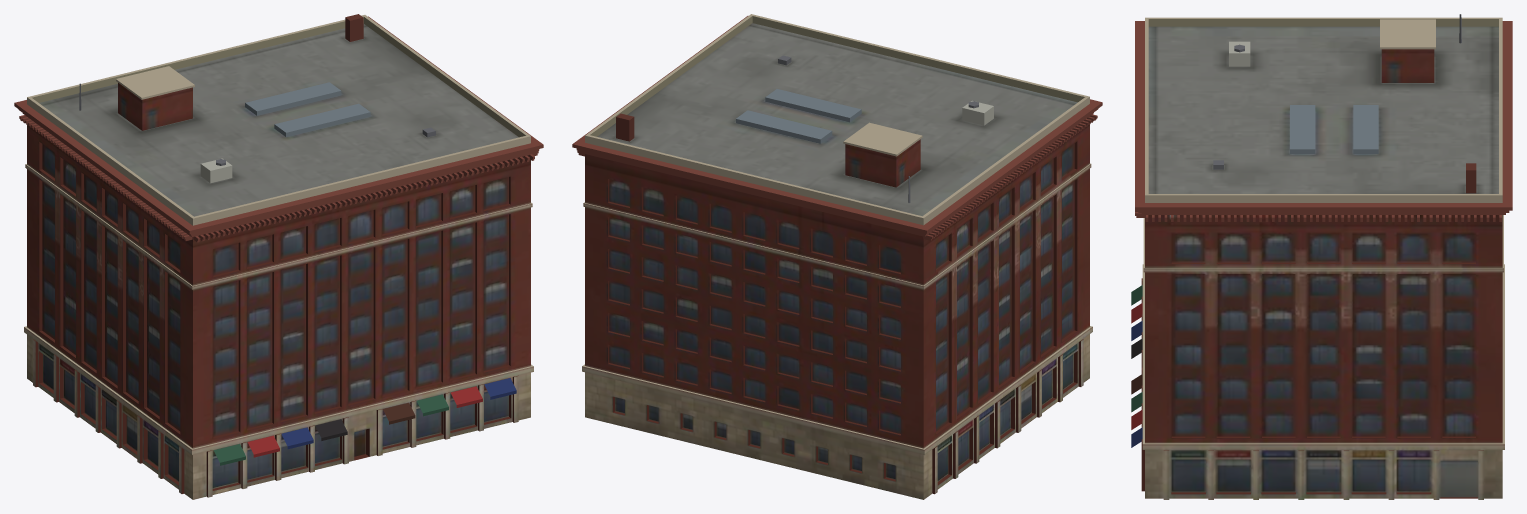
File: seattle_pioneer_b.glb
3 renders of one model, left to right at view 1: azimuth 30°, elevation 25°; view 2: azimuth 150°, elevation 25°; view 3: azimuth 270°, elevation 25°, orthographic. The views are drawn at different scales.
Parts seen in each view (by area): view 1: seattle_pioneer_b; view 2: seattle_pioneer_b; view 3: seattle_pioneer_b.
Boxes of the visible parts, x1,y1,x2,y2 form: seattle_pioneer_b: [14, 14, 543, 499]; seattle_pioneer_b: [572, 14, 1102, 499]; seattle_pioneer_b: [1131, 14, 1512, 499].
Size of the model in its own units: 41.9 by 34.82 by 36.25.
1 material, 1 textured.
